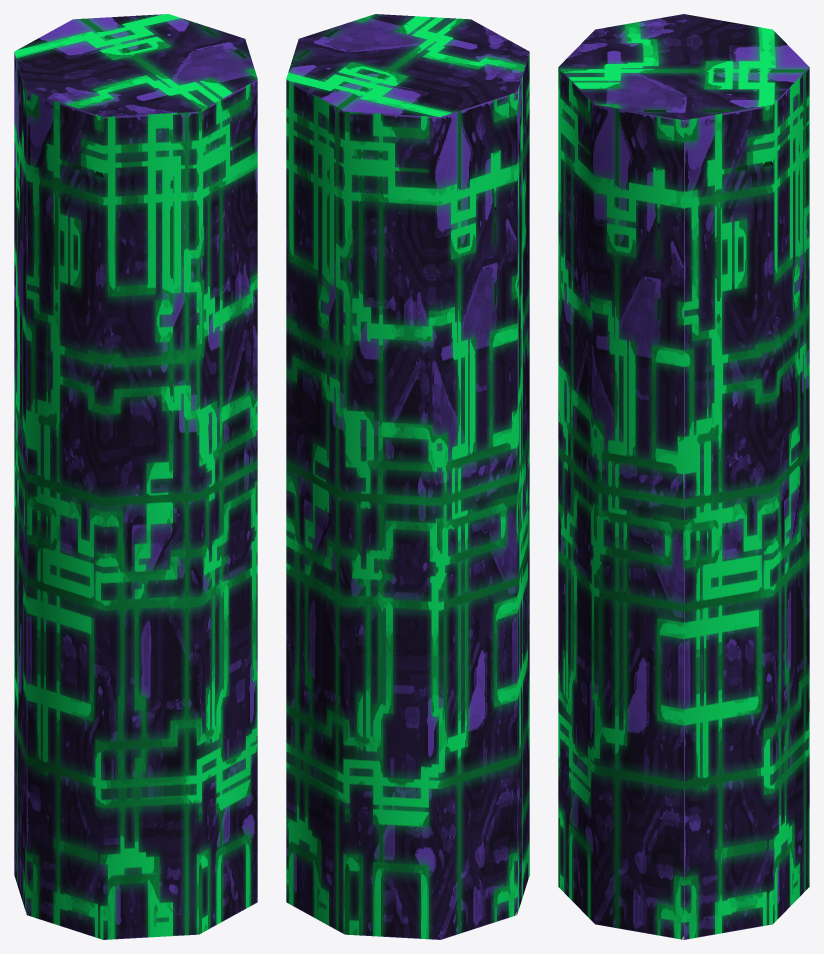
The model's file is City_Pillar.dae.
The picture shows the model from 3 angles, left to right: view 1: azimuth 30°, elevation 25°; view 2: azimuth 150°, elevation 25°; view 3: azimuth 270°, elevation 25°; orthographic projection.
Parts seen in each view (by area): view 1: pCylinder1; view 2: pCylinder1; view 3: pCylinder1.
Part boxes in pixels (x1=…): pCylinder1: x1=14, y1=14, x2=257, y2=939; pCylinder1: x1=286, y1=14, x2=529, y2=939; pCylinder1: x1=558, y1=14, x2=809, y2=939.
Bounding box in the file's own units: 20 × 72 × 20.
